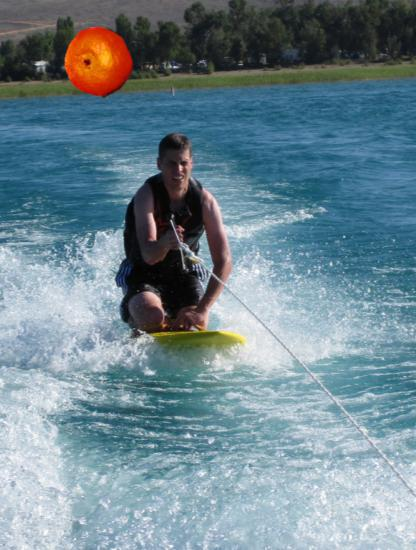Clementine: (63, 27, 136, 100)
